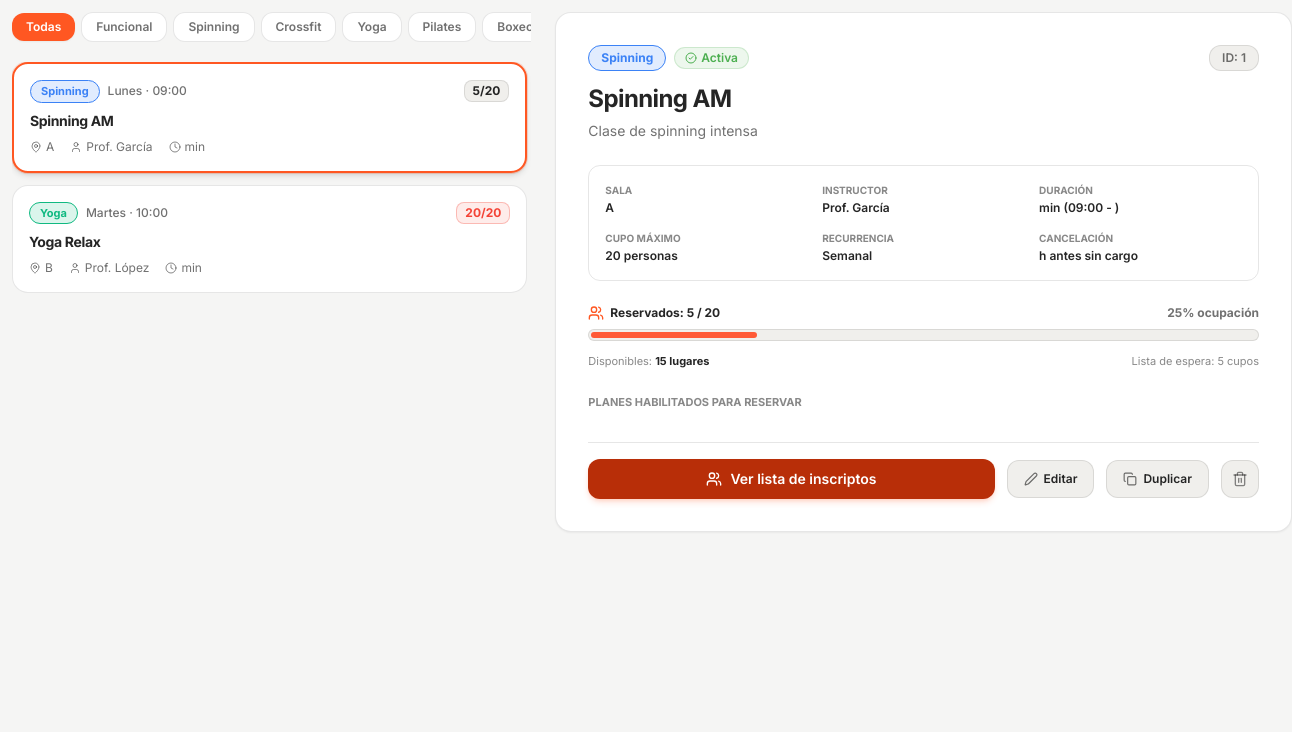
Test: ClassListDetailView › filters to only Yoga classes when Yoga filter is clicked
The image size is (1292, 732).
# Click the Yoga filter button (first occurrence is the filter)
What coordinates should you click on to do the following:
click the button "Yoga"
I would click on:
 (372, 27)
Its box is [342,12,402,42].
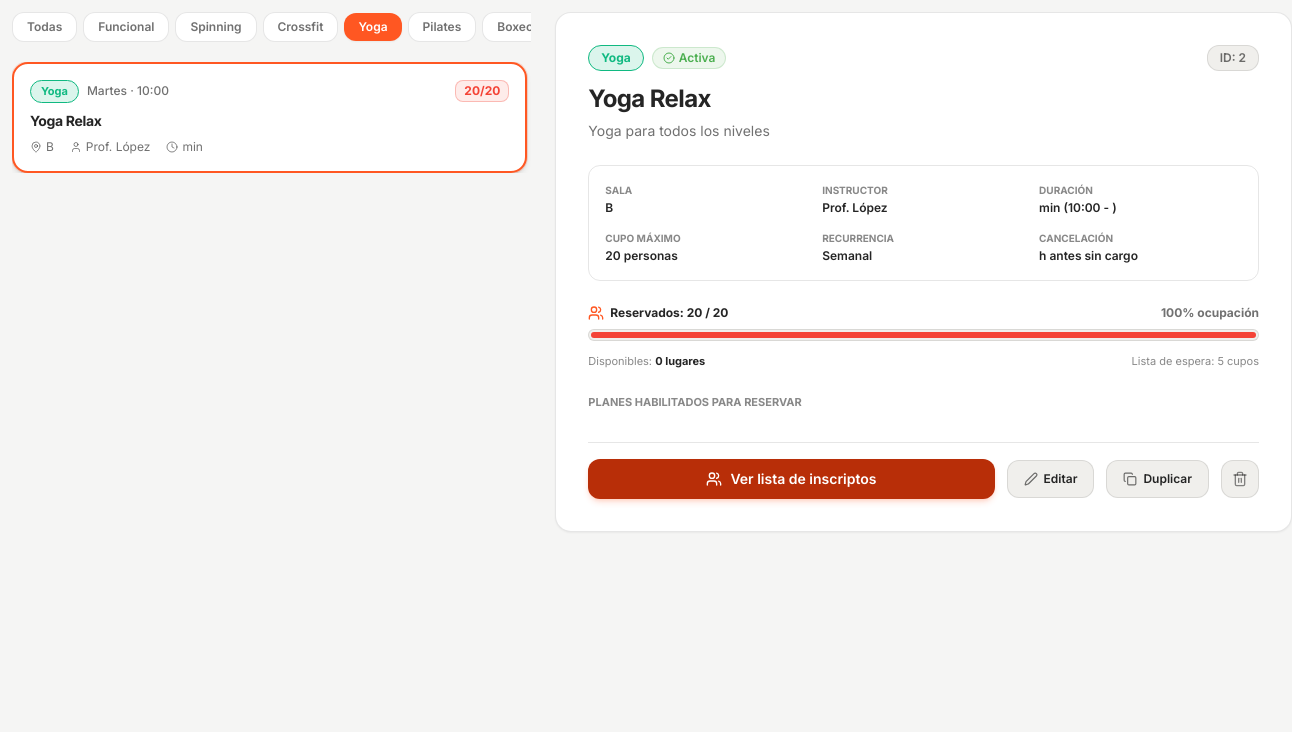
Expected: the heading "Yoga Relax" below "Martes" is shown, [30,112,102,128]
Result: no headings "Spinning AM" are shown
